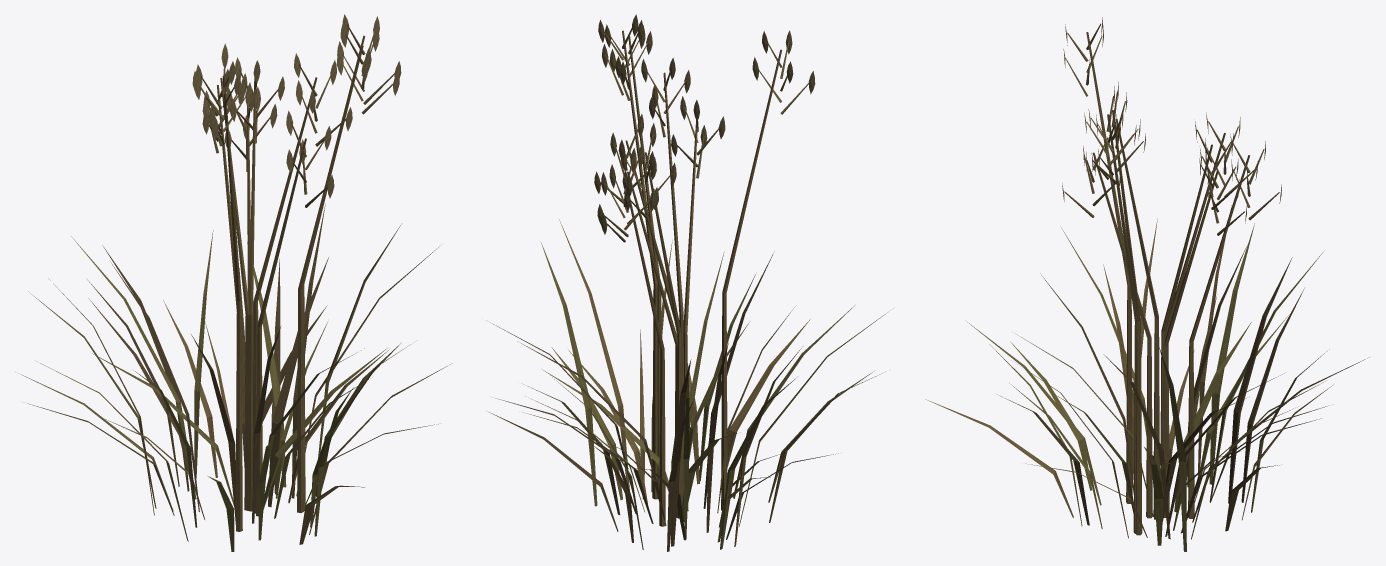
The model's file is dry_grass_seedheads.glb.
3 renders of one model, left to right at view 1: azimuth 30°, elevation 25°; view 2: azimuth 150°, elevation 25°; view 3: azimuth 270°, elevation 25°, orthographic. The views are drawn at different scales.
Parts seen in each view (by area): view 1: dry_grass_seedheads; view 2: dry_grass_seedheads; view 3: dry_grass_seedheads.
Boxes of the visible parts, left/top/right/bottom form: dry_grass_seedheads: left=18, top=14, right=452, bottom=551; dry_grass_seedheads: left=489, top=14, right=893, bottom=551; dry_grass_seedheads: left=925, top=17, right=1369, bottom=551.
Bounding box in the file's own units: 0.7092 × 0.8921 × 0.7609.
1 material, 1 textured.
